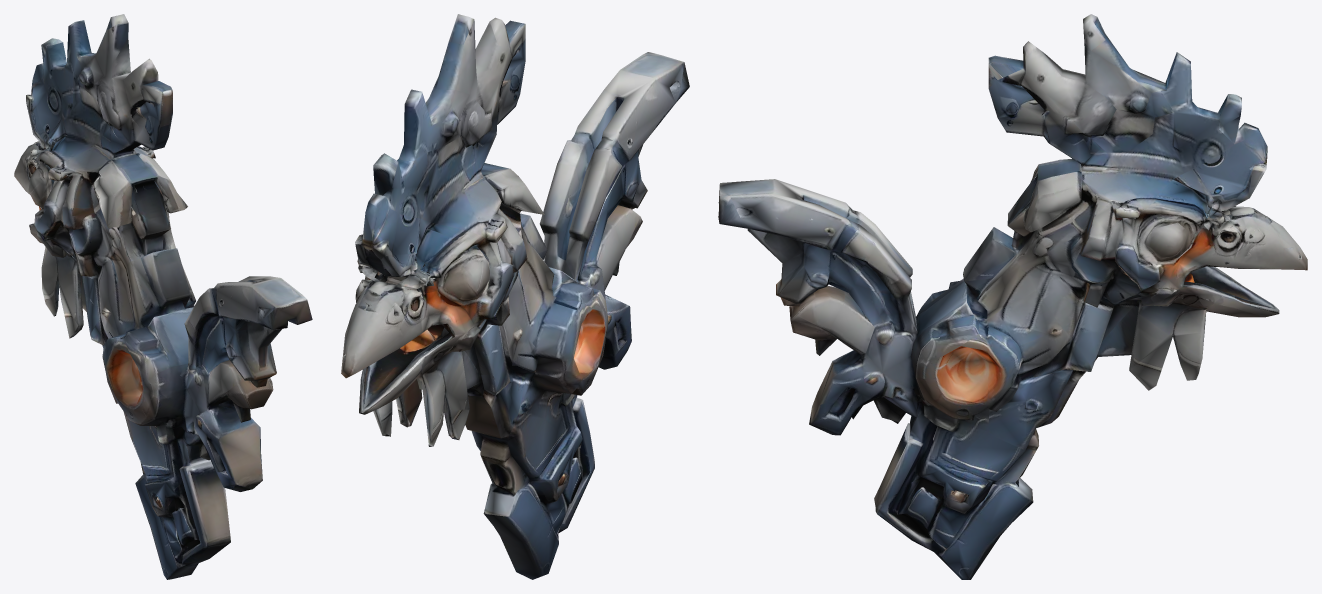
The picture shows the model from 3 angles, left to right: view 1: azimuth 30°, elevation 25°; view 2: azimuth 150°, elevation 25°; view 3: azimuth 270°, elevation 25°; orthographic projection. The views are drawn at different scales.
Visible parts, largest first — view 1: tripo_node_cec6c029-cd9d-436b-b2a4-616ef3098b20; view 2: tripo_node_cec6c029-cd9d-436b-b2a4-616ef3098b20; view 3: tripo_node_cec6c029-cd9d-436b-b2a4-616ef3098b20.
Part boxes in pixels (left/top/right/bottom): tripo_node_cec6c029-cd9d-436b-b2a4-616ef3098b20: left=14, top=14, right=312, bottom=579; tripo_node_cec6c029-cd9d-436b-b2a4-616ef3098b20: left=341, top=14, right=689, bottom=579; tripo_node_cec6c029-cd9d-436b-b2a4-616ef3098b20: left=718, top=14, right=1307, bottom=579.
Size of the model in its own units: 0.2188 by 0.9982 by 0.9501.
Materials: 1 (1 with a texture image).
